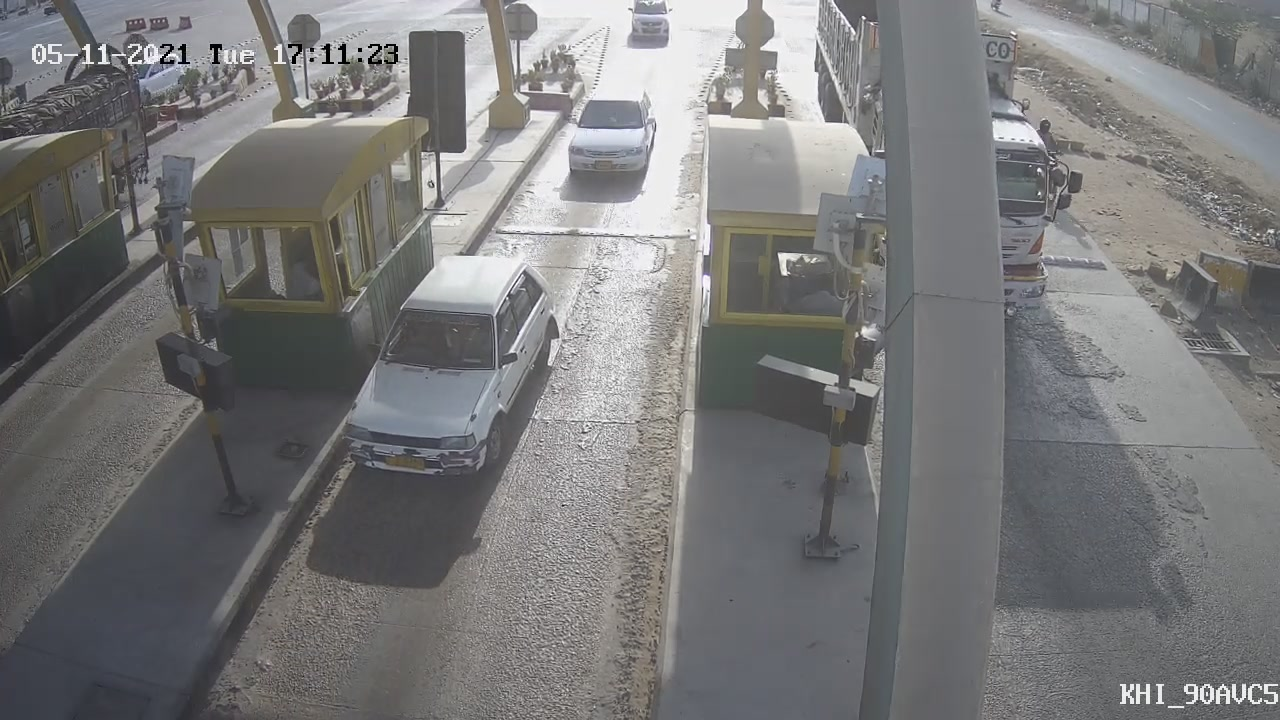F1: (314, 233, 583, 495), (552, 69, 672, 195)
